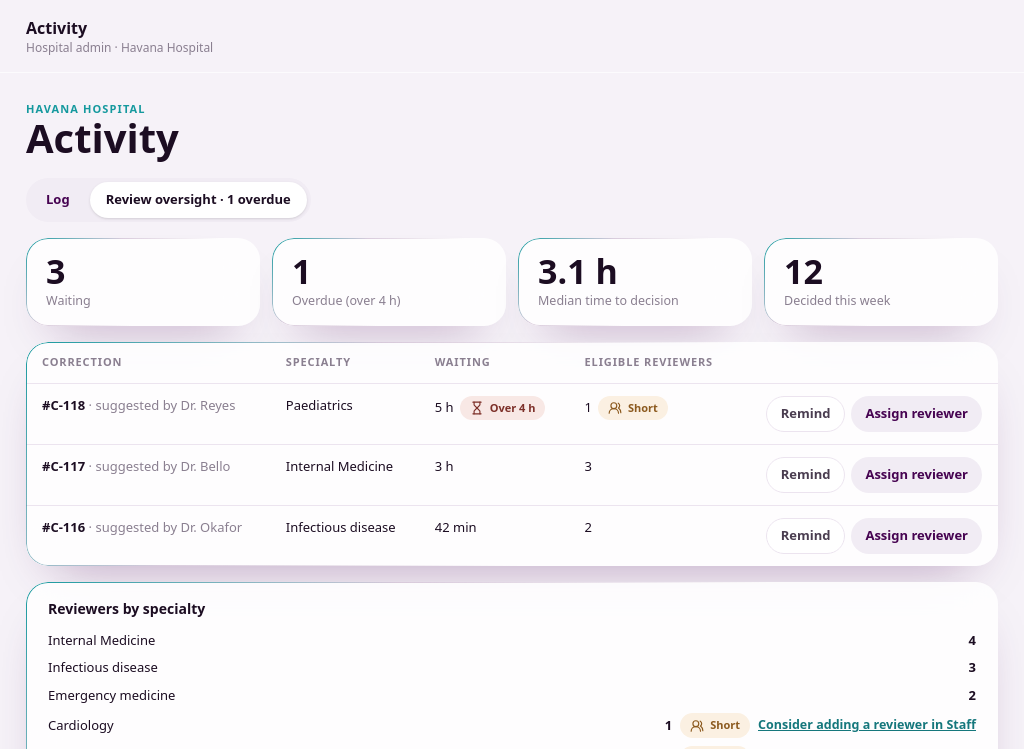
OversightView › drops a correction decided meanwhile, with a notice
Click the button with aria-label "Remind reviewers about C-116": x=806, y=536 [766,518,846,554]
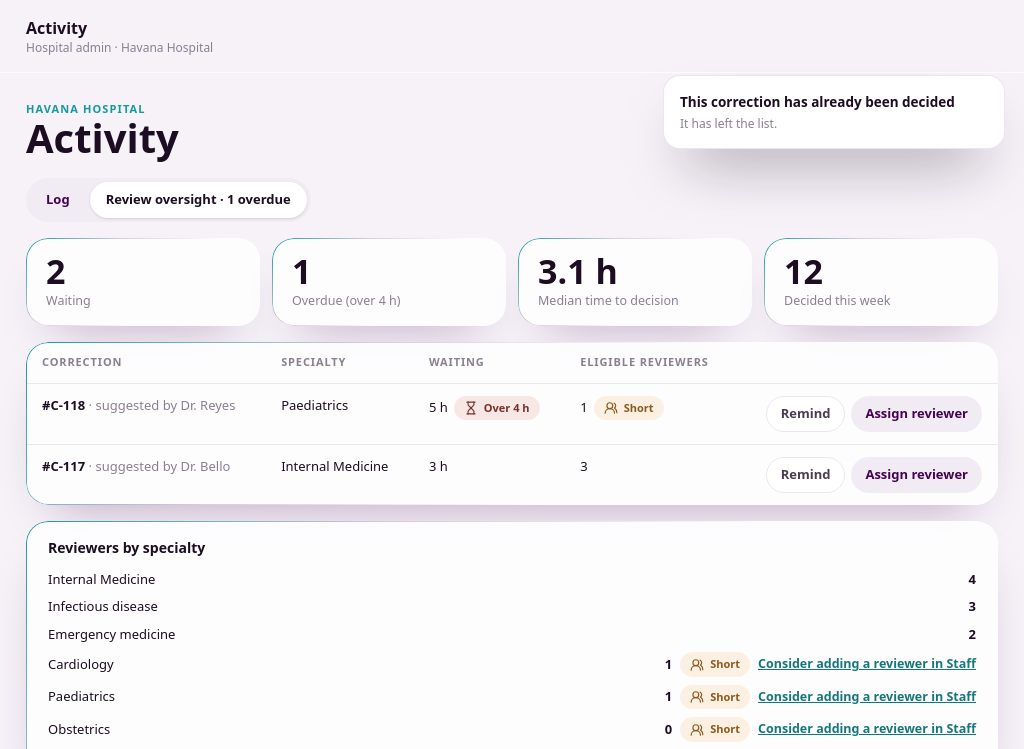
expect the text "This correction has already been decided" is shown: met, box [680,92,988,112]
expect the text "#C-116" is gone: met
expect the text "Waiting" shows "2": met, box [46,248,66,294]
